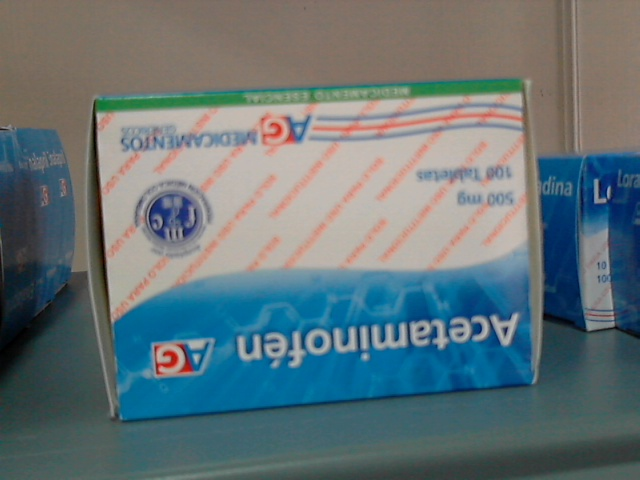AG: (117, 83, 536, 412)
